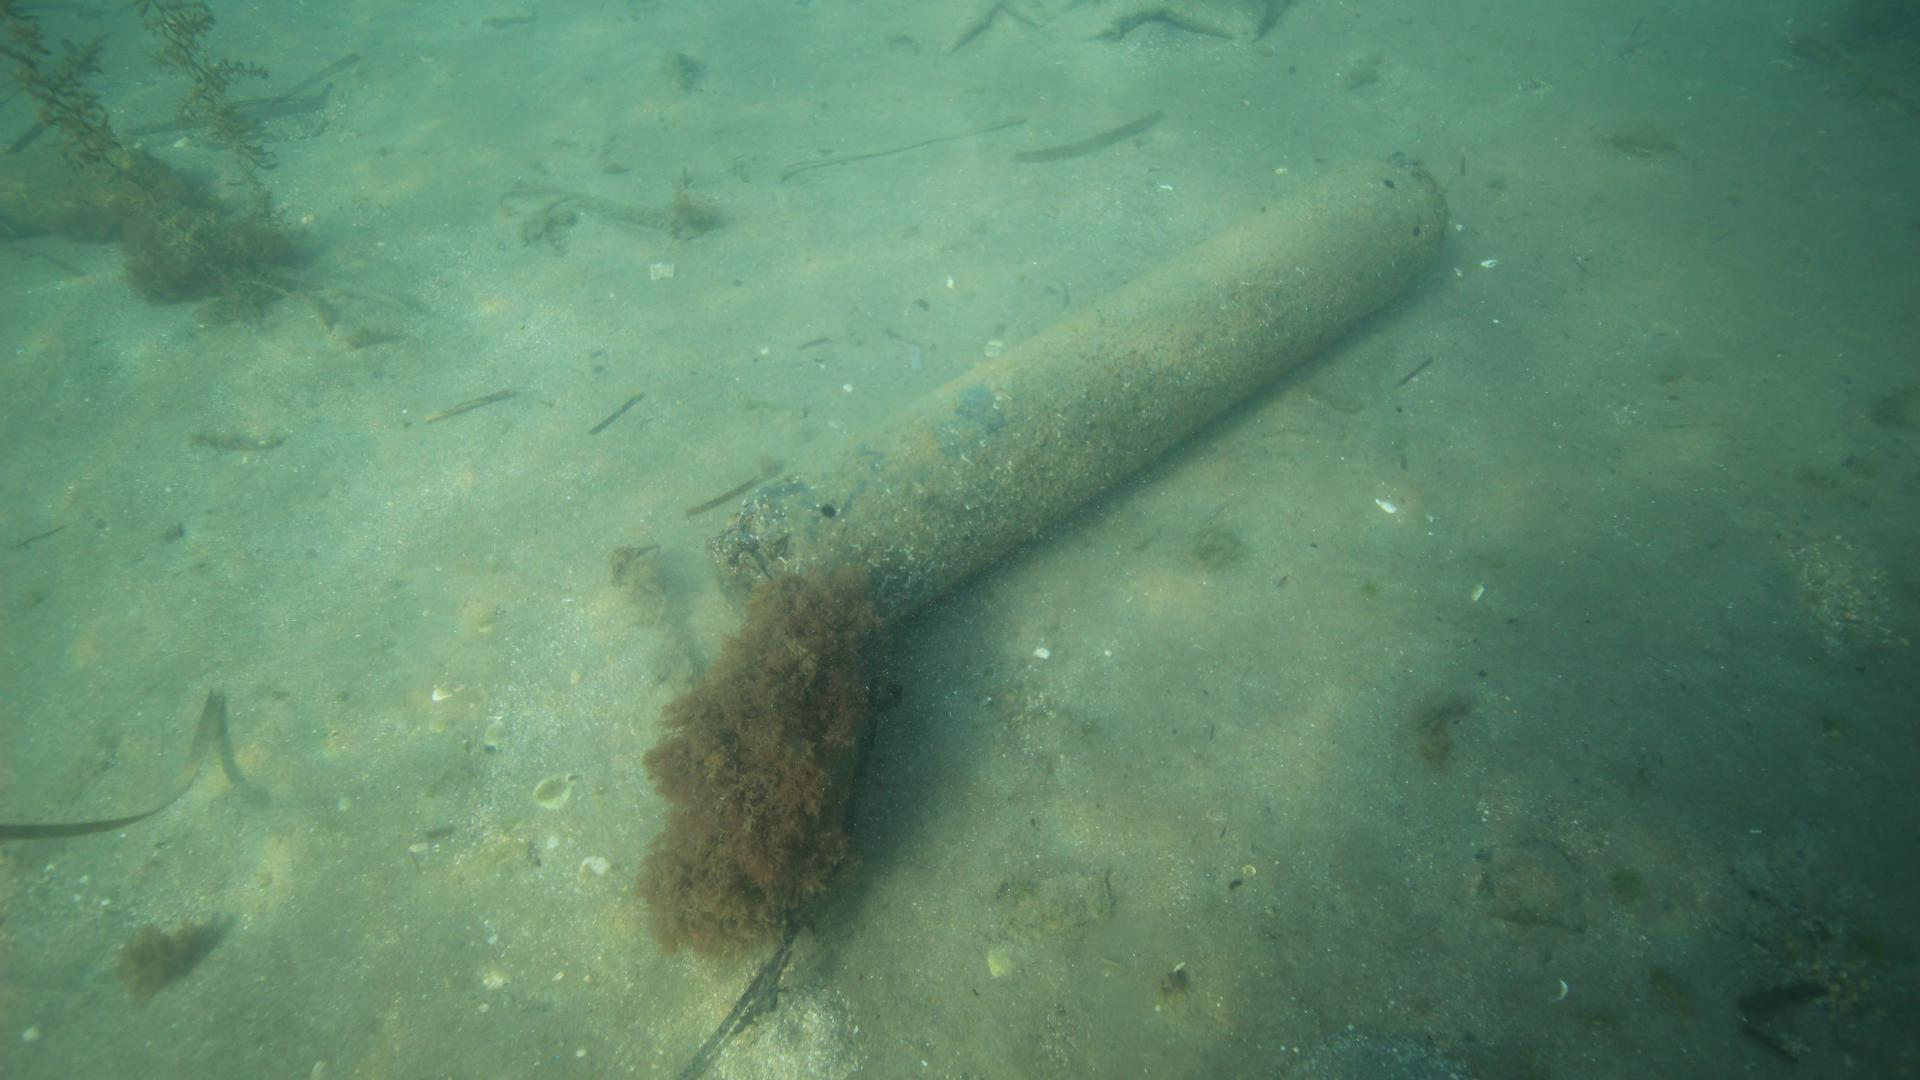eel fish trap: (702, 150, 1449, 642)
